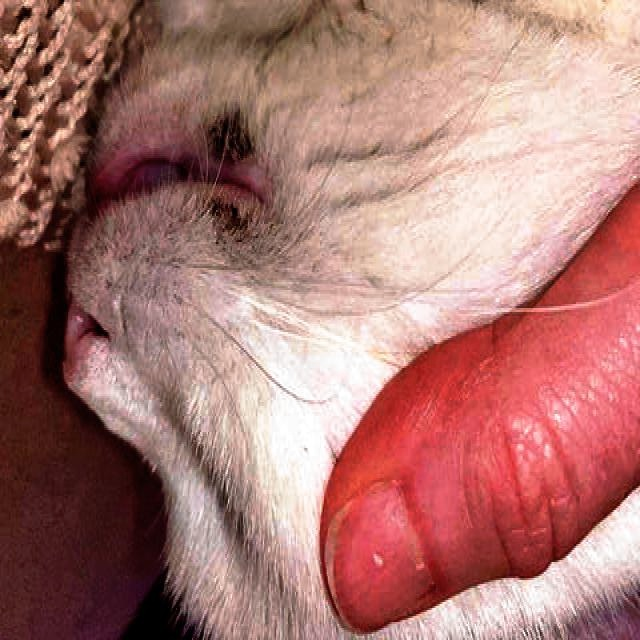acne: (208, 186, 258, 262), (207, 104, 252, 173)
